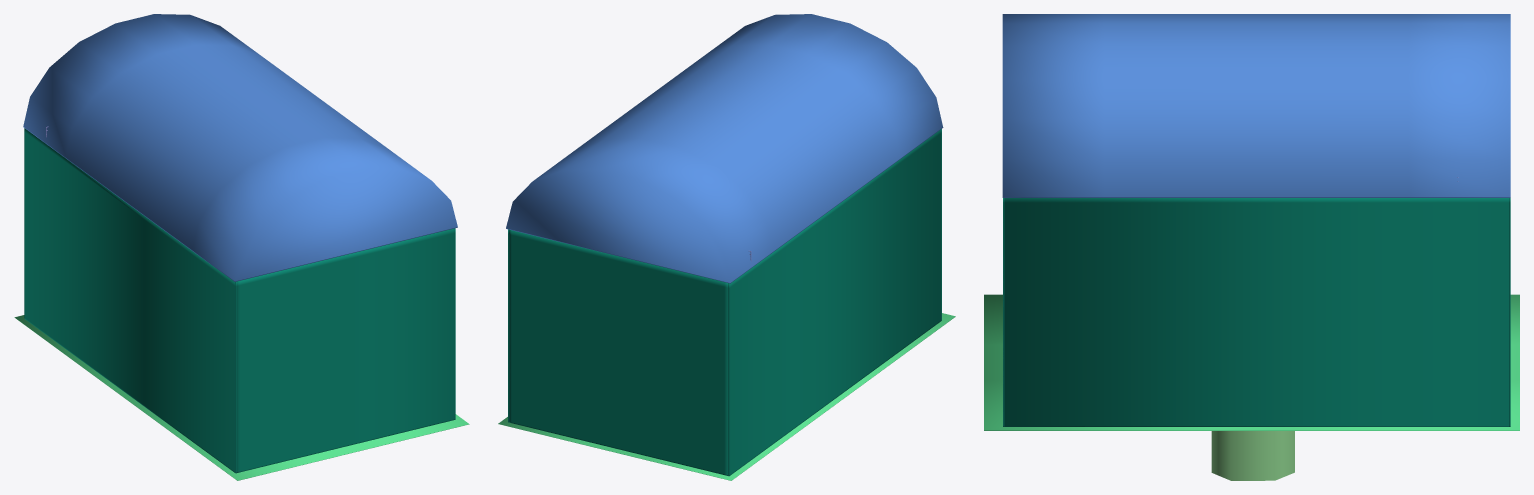
3 renders of one model, left to right at view 1: azimuth 30°, elevation 25°; view 2: azimuth 150°, elevation 25°; view 3: azimuth 270°, elevation 25°, orthographic. The views are drawn at different scales.
Parts seen in each view (by area): view 1: Wall002, Cylinder001, Plane001; view 2: Wall002, Cylinder001, Plane001; view 3: Wall002, Cylinder001, Plane001, Cylinder002.
Part boxes in pixels (x1,y1,x2,y2): Wall002: (24, 128, 455, 473); Cylinder001: (23, 14, 457, 281); Plane001: (14, 315, 469, 480); Wall002: (508, 129, 941, 476); Cylinder001: (506, 14, 943, 283); Plane001: (498, 313, 955, 480); Wall002: (1003, 198, 1510, 426); Cylinder001: (1002, 14, 1510, 197); Plane001: (984, 294, 1519, 430); Cylinder002: (1211, 431, 1294, 480).
Bounding box in the file's own units: 7935 × 11662 × 13226.
